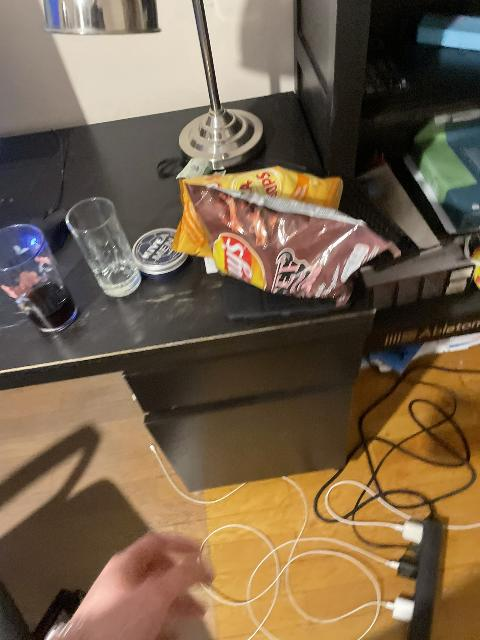Chio Hula Hoops Cheese 70g: (174, 165, 343, 263)
Lays Beef Grilled Ribs 125g: (184, 182, 399, 308)
